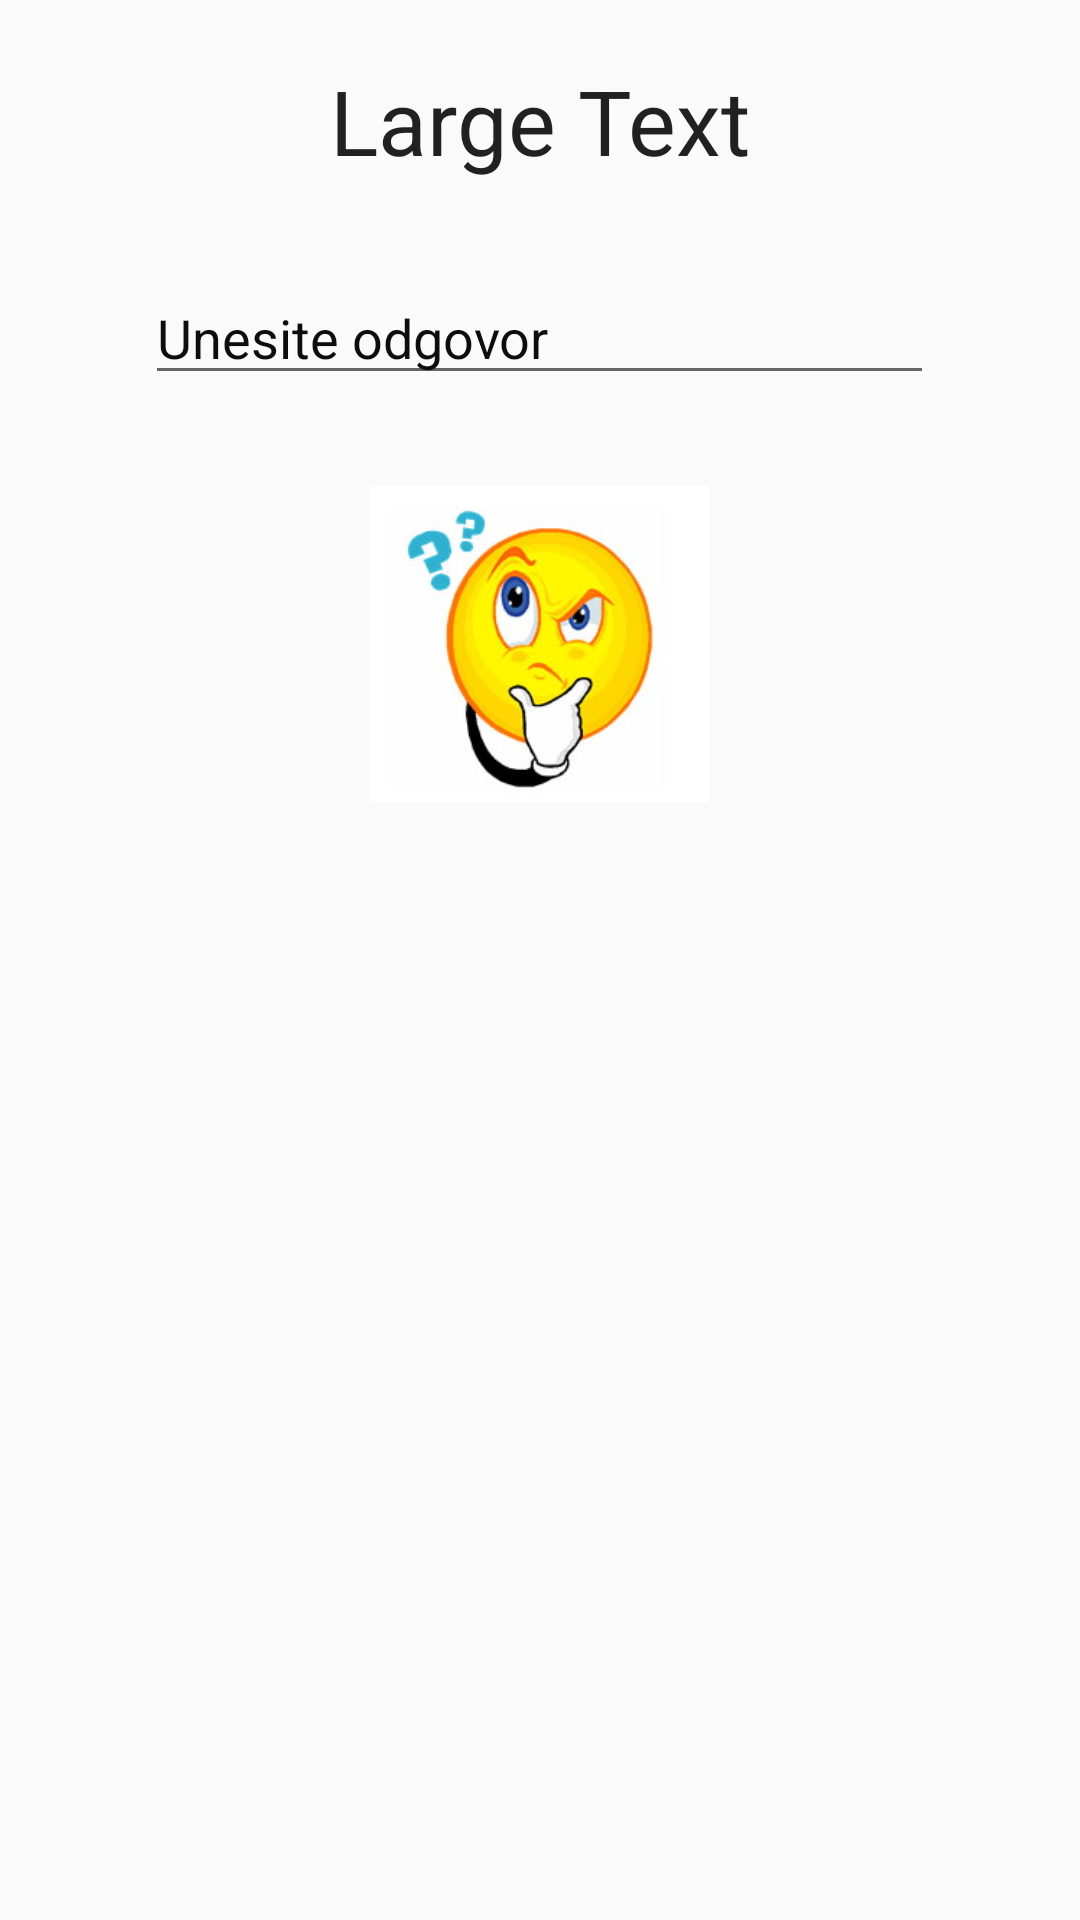

Icon bounding boxes for this 1080w x 1920h phone screenshot, format (x1, y1, x2, y2):
pitanje: (407, 510, 653, 788)
